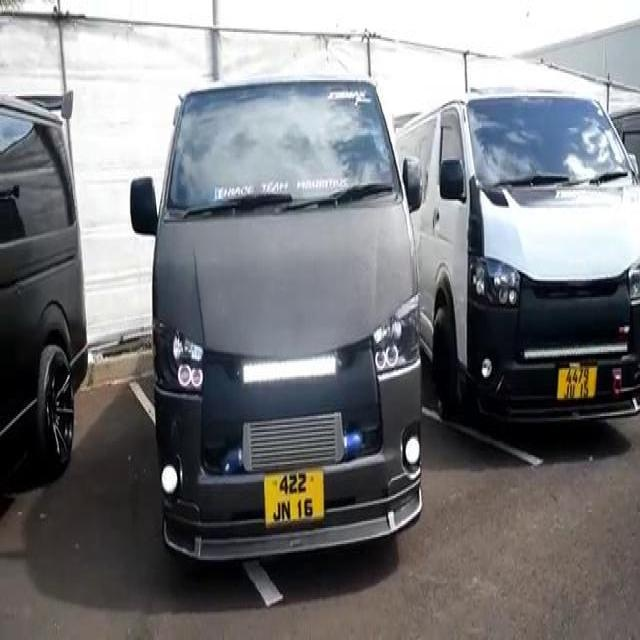Van: (137, 80, 434, 560), (397, 100, 639, 430)
